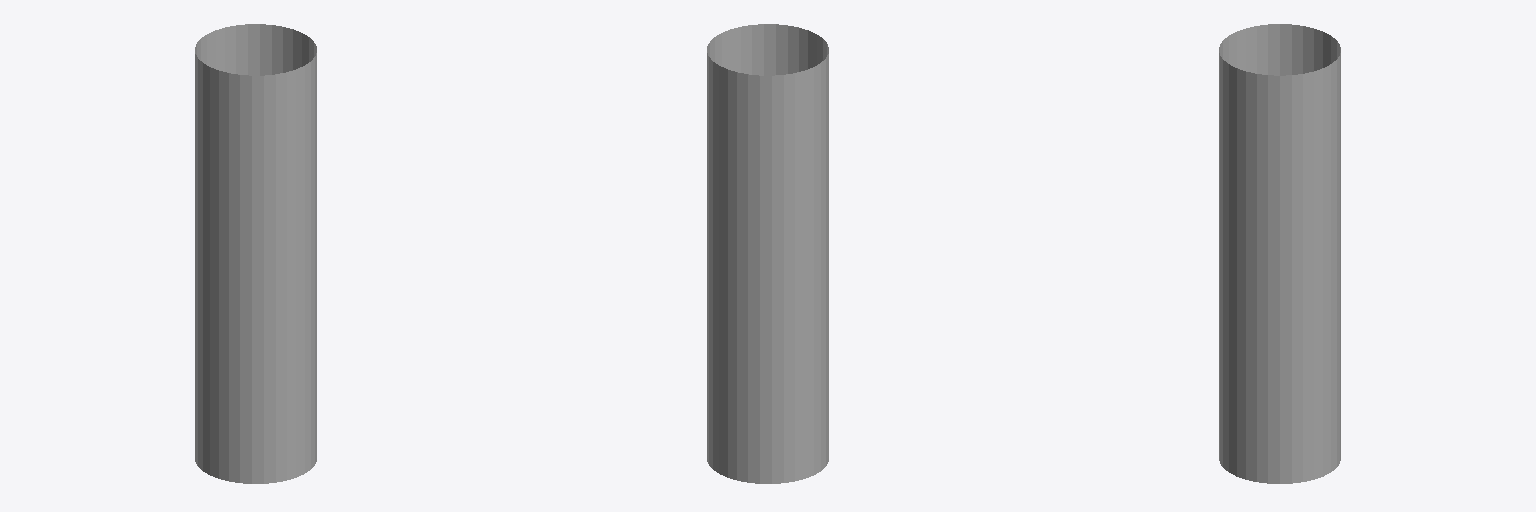
The model's file is candle_bottom.obj.
3 renders of one model, left to right at view 1: azimuth 30°, elevation 25°; view 2: azimuth 150°, elevation 25°; view 3: azimuth 270°, elevation 25°, orthographic.
Parts seen in each view (by area): view 1: candle_bottom_Cylinder.001; view 2: candle_bottom_Cylinder.001; view 3: candle_bottom_Cylinder.001.
Boxes of the visible parts, box(x1,y1,x2,y2) form: candle_bottom_Cylinder.001: box(195, 24, 316, 483); candle_bottom_Cylinder.001: box(707, 24, 828, 483); candle_bottom_Cylinder.001: box(1219, 24, 1340, 483).
Size of the model in its own units: 0.5458 by 2.03 by 0.5458.